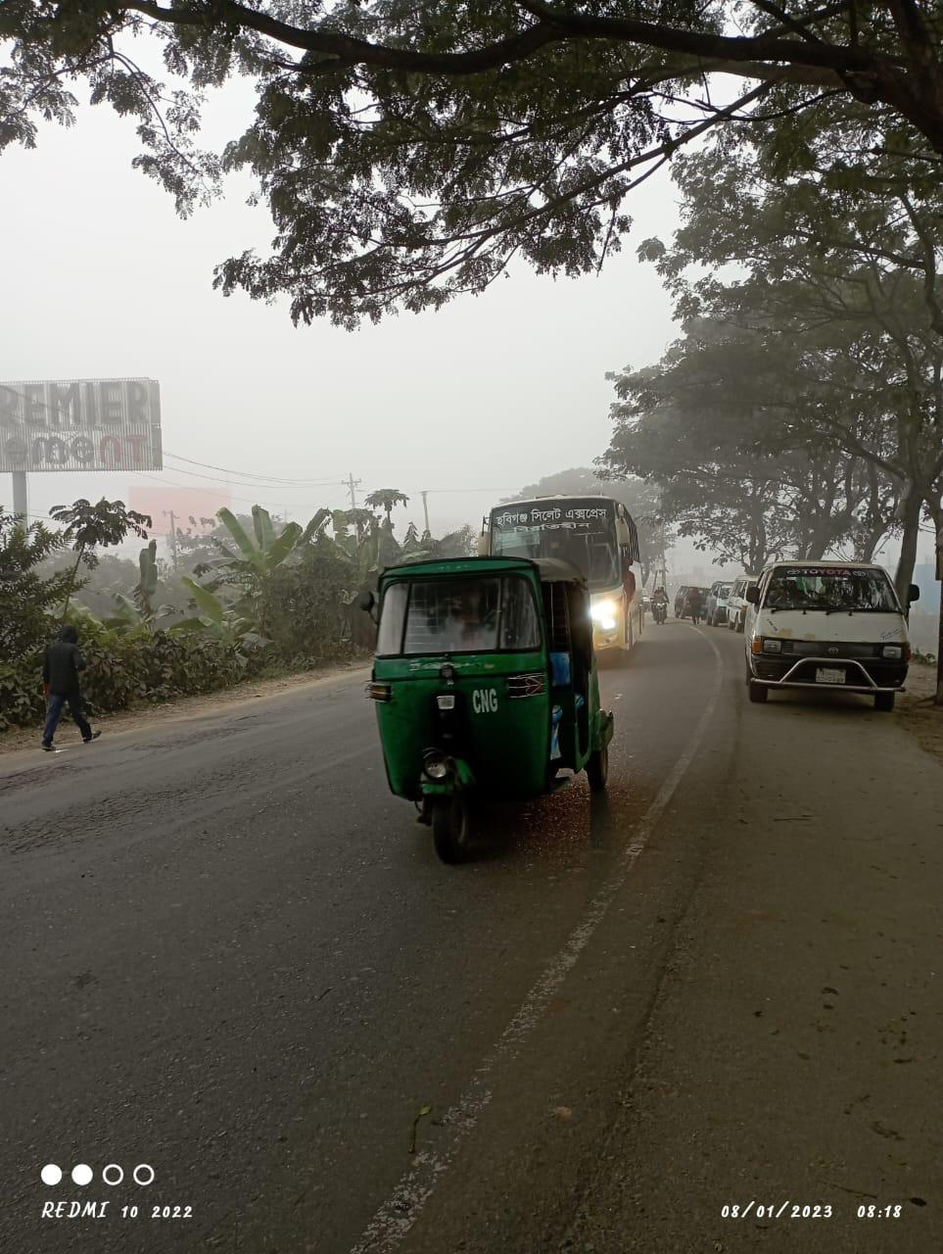Bike: (650, 583, 670, 634)
Bus: (480, 485, 655, 661)
Car: (729, 550, 924, 722)
